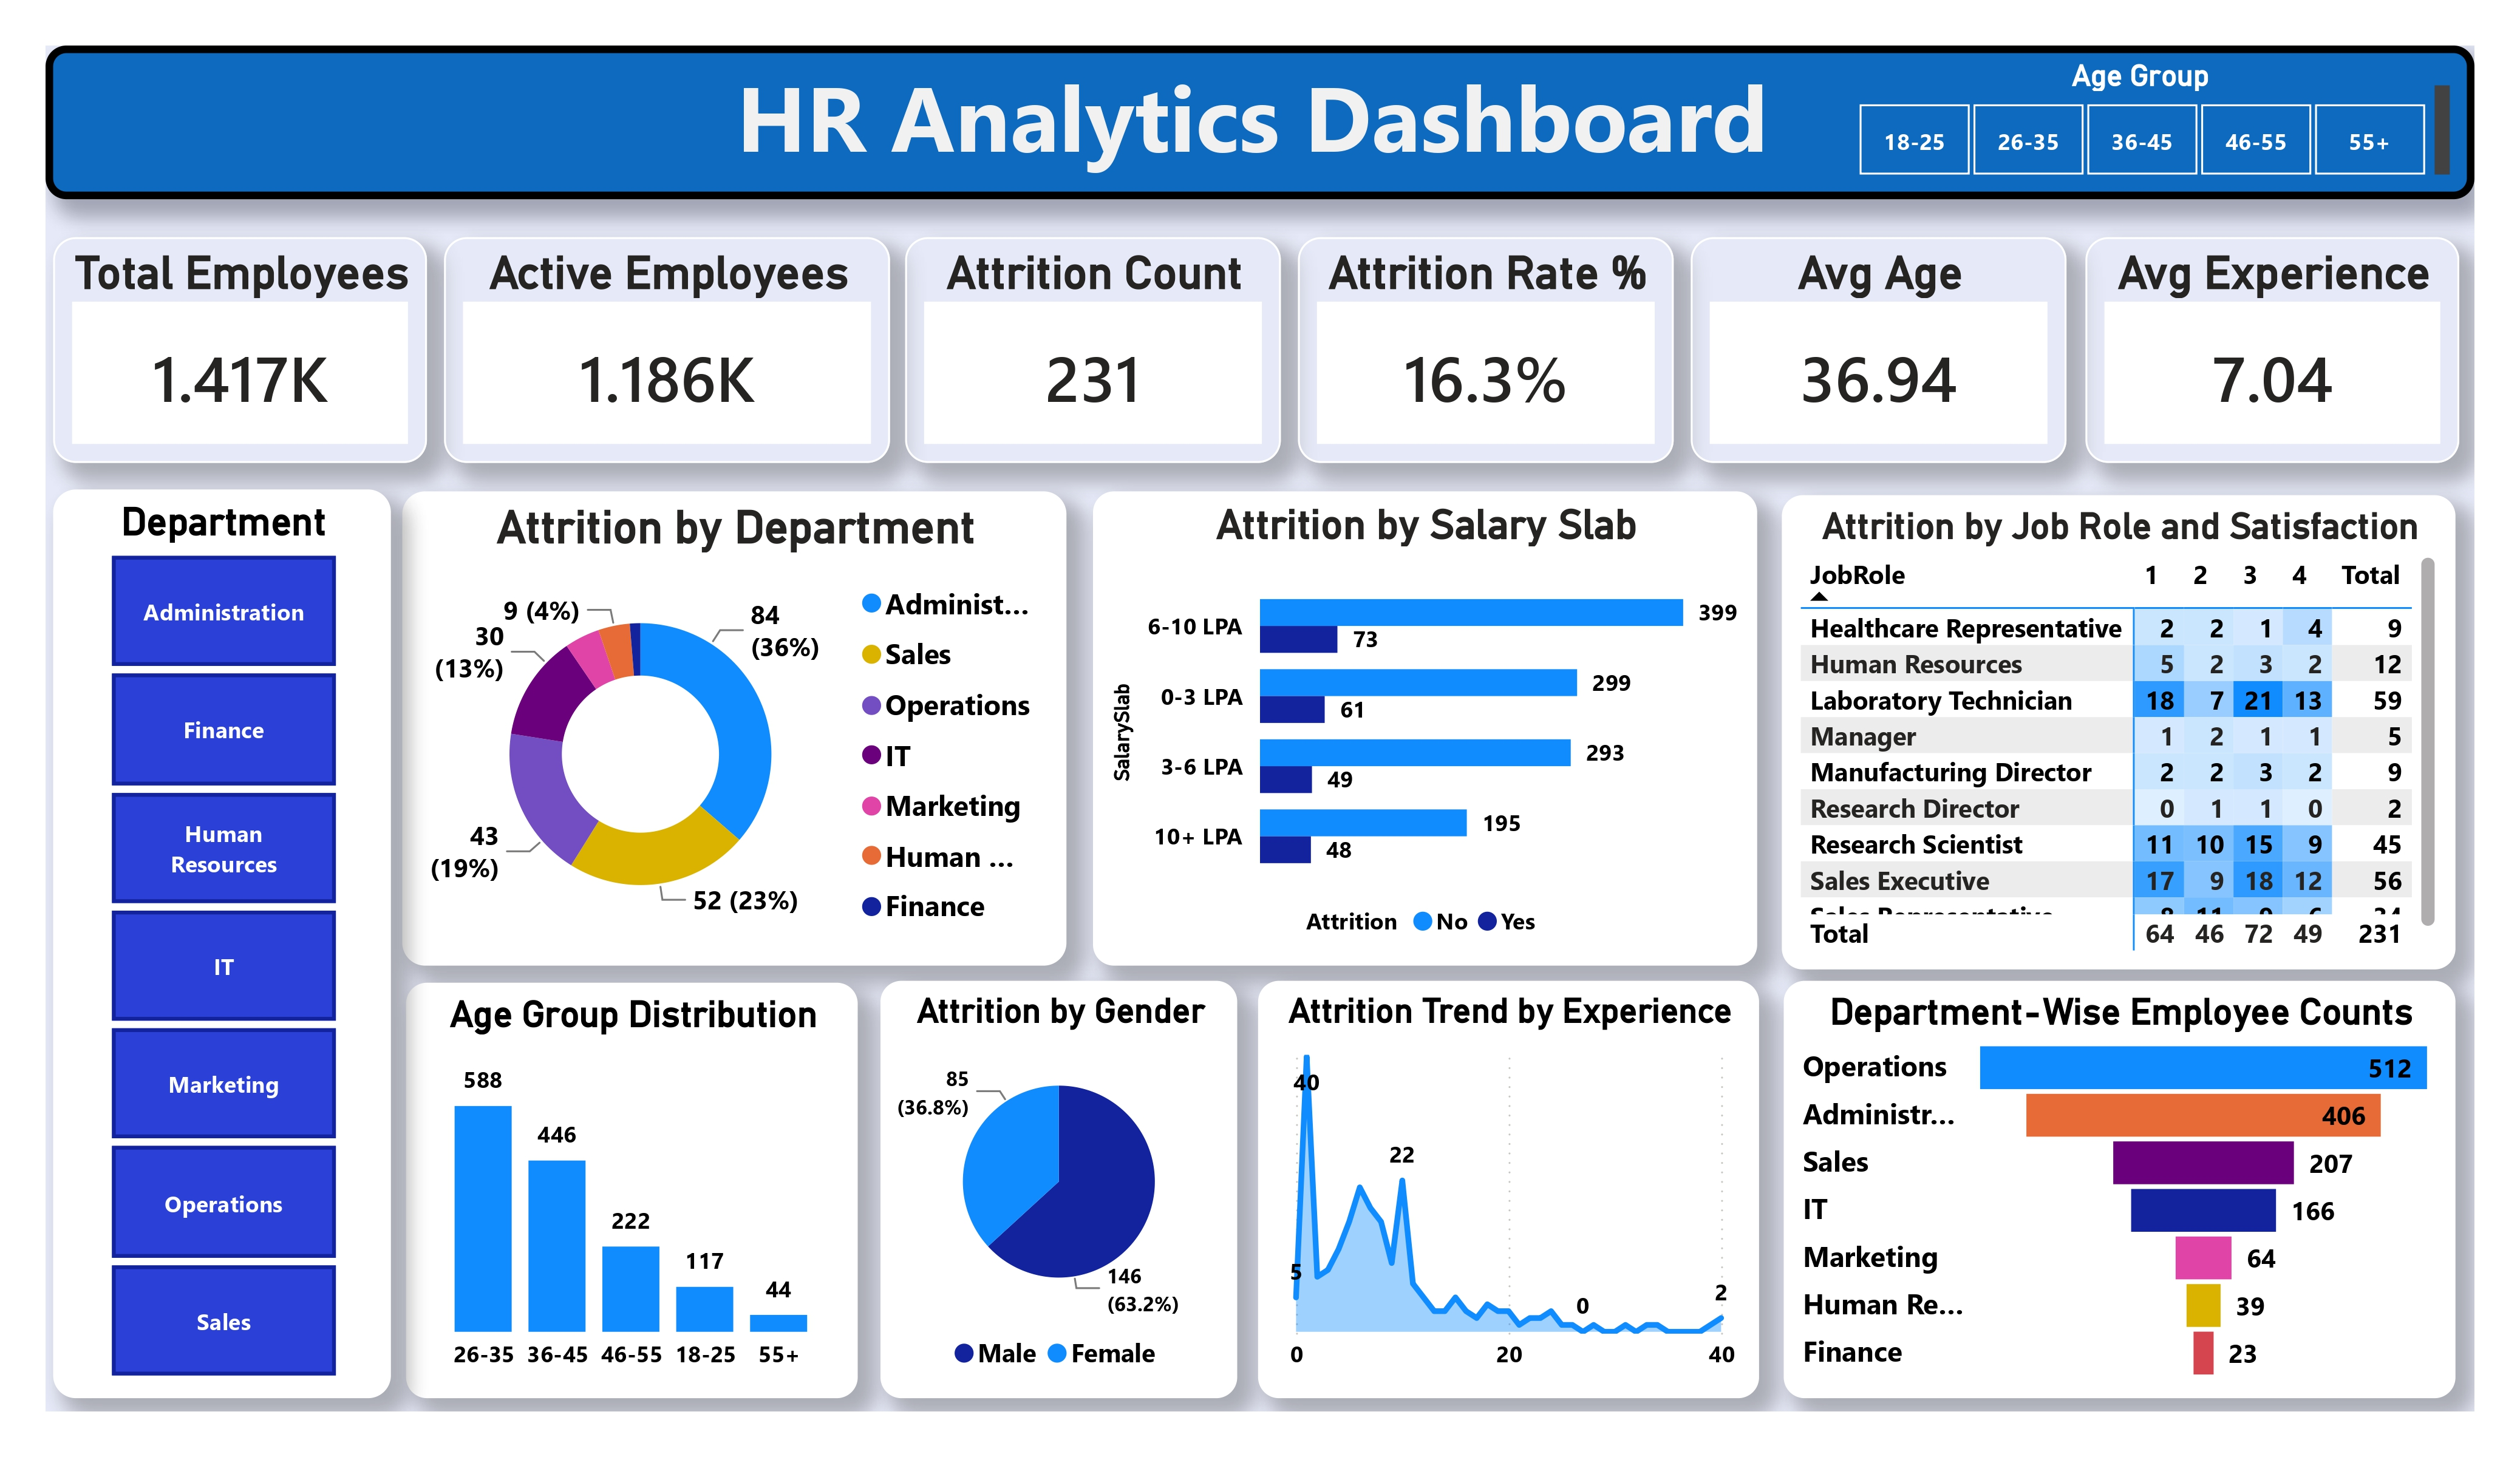

What the dashboard file says about the page in this screenshot:
{"tool":"powerbi","page":{"name":"Page 1","canvas":[1280,720],"ordinal":0},"visuals":[{"type":"textbox","box":[0,0,1280,81.4],"z":0},{"type":"cardVisual","title":"Total Employees","fields":{"Data":["CountNonNull(HR_Analytics-4.EmpID)"]},"box":[3.6,101.2,197.6,119.3],"z":1000},{"type":"cardVisual","title":"Active Employees","fields":{"Data":["CountNonNull(HR_Analytics-4.EmployeeCount)"]},"box":[209.6,101.2,234.9,119.3],"z":2000},{"type":"cardVisual","title":"Attrition Count","fields":{"Data":["Sum(HR_Analytics-4.Attrition Count)"]},"box":[453,101.2,197.6,119.3],"z":3000},{"type":"cardVisual","title":"Attrition Rate %","fields":{"Data":["HR_Analytics-4.Attrition rate %"]},"box":[660.2,101.2,197.6,119.3],"z":4000},{"type":"cardVisual","title":"Avg Age","fields":{"Data":["Avg(HR_Analytics-4.Age)"]},"box":[867.5,101.2,197.6,119.3],"z":5000},{"type":"cardVisual","title":"Avg Experience ","fields":{"Data":["Avg(HR_Analytics-4.YearsatCompany)"]},"box":[1074.7,101.2,197.6,119.3],"z":6000},{"type":"donutChart","title":"Attrition by Department","fields":{"Category":["HR_Analytics-4.Department"],"Y":["Sum(HR_Analytics-4.Attrition Count)"]},"box":[188.3,235,350,250],"z":7000},{"type":"clusteredBarChart","title":"Attrition by Salary Slab","fields":{"Category":["HR_Analytics-4.SalarySlab"],"Y":["CountNonNull(HR_Analytics-4.EmpID)"],"Series":["HR_Analytics-4.Attrition"]},"box":[551.7,235,350,250],"z":8000},{"type":"pivotTable","title":"Attrition by Job Role and Satisfaction","fields":{"Rows":["HR_Analytics-4.JobRole"],"Columns":["HR_Analytics-4.JobSatisfaction"],"Values":["Sum(HR_Analytics-4.Attrition Count)"]},"box":[915,236.7,355,250],"z":9000},{"type":"columnChart","title":"Age Group Distribution","fields":{"Y":["Sum(HR_Analytics-4.EmployeeCount)"],"Category":["HR_Analytics-4.AgeGroup"]},"box":[189.6,494,238.8,219.4],"z":10000},{"type":"pieChart","title":"Attrition by Gender","fields":{"Category":["HR_Analytics-4.Gender"],"Y":["Sum(HR_Analytics-4.Attrition Count)"]},"box":[440,493.1,188.5,220],"z":11000},{"type":"areaChart","title":" Attrition Trend by Experience","fields":{"Category":["HR_Analytics-4.TotalExperience(Years)"],"Y2":["Sum(HR_Analytics-4.Attrition Count)"]},"box":[639.3,493.4,263.9,219.7],"z":12000},{"type":"funnel","title":"Department-Wise Employee Counts","fields":{"Category":["HR_Analytics-4.Department"],"Y":["CountNonNull(HR_Analytics-4.EmpID)"]},"box":[916.4,493.4,354.1,219.7],"z":13000},{"type":"slicer","title":"Department","fields":{"Values":["HR_Analytics-4.Department"]},"box":[4.5,234.3,177.6,479.1],"z":13001},{"type":"slicer","title":"Age Group","fields":{"Values":["HR_Analytics-4.AgeGroup"]},"box":[929.9,6,347.8,68.7],"z":13002}]}

Visuals, with their boxes on the page's 1280x720 design canvas (x1, y1, x2, y2). These are canvas units, not pixel positions in the 2520x1457 screenshot, which may show the page scaled, cropped or inside an application window:
textbox: {"left": 0, "top": 0, "right": 1280, "bottom": 81}
"Total Employees" cardVisual: {"left": 4, "top": 101, "right": 201, "bottom": 220}
"Active Employees" cardVisual: {"left": 210, "top": 101, "right": 444, "bottom": 220}
"Attrition Count" cardVisual: {"left": 453, "top": 101, "right": 651, "bottom": 220}
"Attrition Rate %" cardVisual: {"left": 660, "top": 101, "right": 858, "bottom": 220}
"Avg Age" cardVisual: {"left": 868, "top": 101, "right": 1065, "bottom": 220}
"Avg Experience " cardVisual: {"left": 1075, "top": 101, "right": 1272, "bottom": 220}
"Attrition by Department" donutChart: {"left": 188, "top": 235, "right": 538, "bottom": 485}
"Attrition by Salary Slab" clusteredBarChart: {"left": 552, "top": 235, "right": 902, "bottom": 485}
"Attrition by Job Role and Satisfaction" pivotTable: {"left": 915, "top": 237, "right": 1270, "bottom": 487}
"Age Group Distribution" columnChart: {"left": 190, "top": 494, "right": 428, "bottom": 713}
"Attrition by Gender" pieChart: {"left": 440, "top": 493, "right": 628, "bottom": 713}
" Attrition Trend by Experience" areaChart: {"left": 639, "top": 493, "right": 903, "bottom": 713}
"Department-Wise Employee Counts" funnel: {"left": 916, "top": 493, "right": 1270, "bottom": 713}
"Department" slicer: {"left": 4, "top": 234, "right": 182, "bottom": 713}
"Age Group" slicer: {"left": 930, "top": 6, "right": 1278, "bottom": 75}
